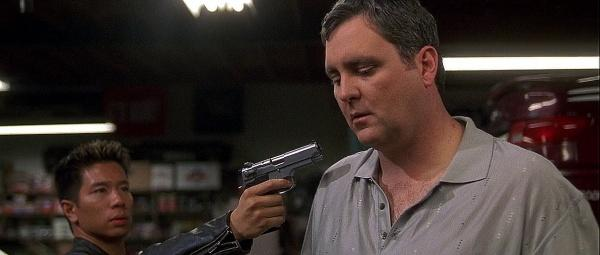Gun: (240, 140, 325, 200)
